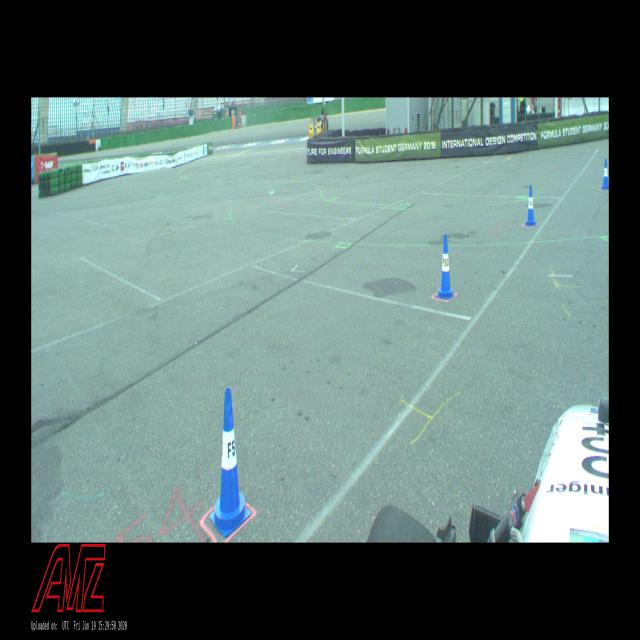blue_cone: (210, 388, 250, 537), (436, 234, 454, 300), (526, 186, 536, 225), (602, 159, 608, 189)
